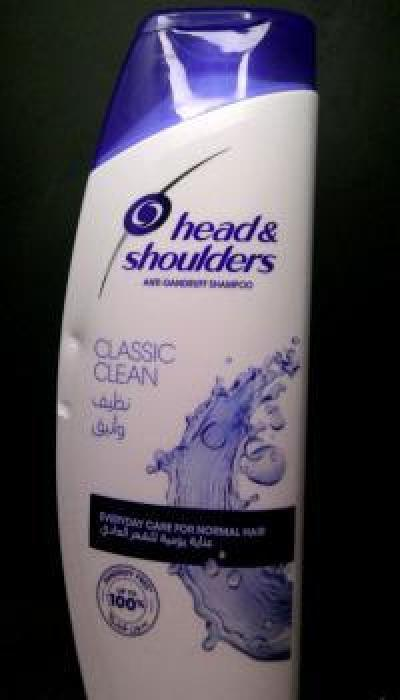dent_unacc: (57, 396, 79, 426), (66, 331, 90, 357)
